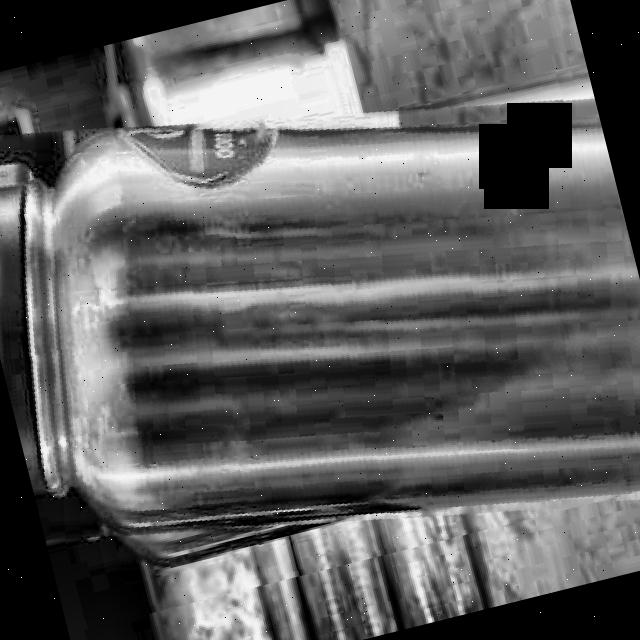bottle: (0, 123, 640, 533)
